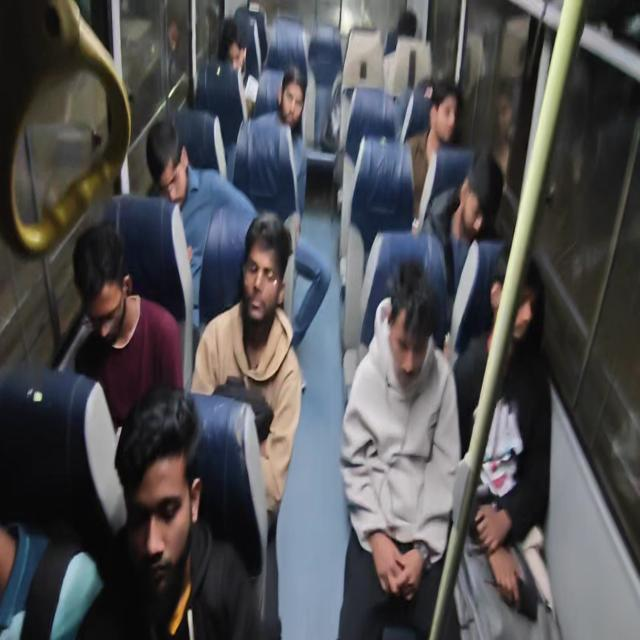person: (124, 383, 195, 593), (74, 218, 141, 368), (381, 240, 438, 394), (237, 206, 291, 333), (492, 242, 546, 361), (142, 112, 192, 210), (460, 146, 500, 237), (424, 71, 458, 148), (222, 11, 249, 91), (279, 62, 308, 130), (394, 4, 418, 46)
